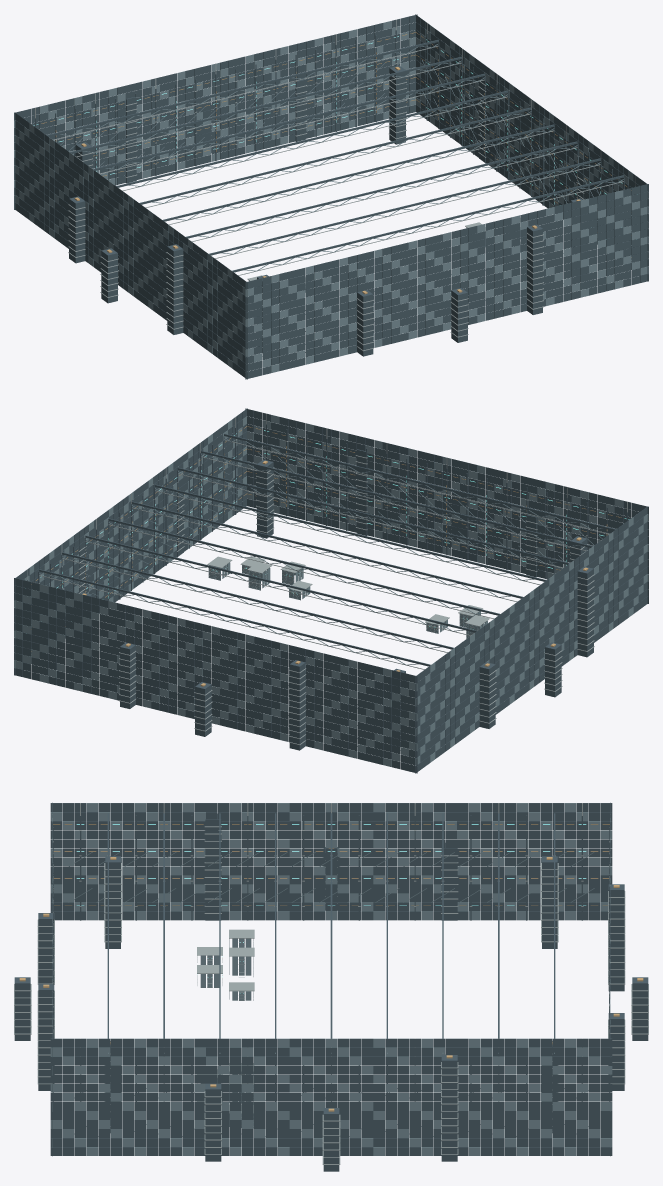
The model's file is FoundryBackdrop.fbx.
The picture shows the model from 3 angles, top to bottom: view 1: azimuth 30°, elevation 25°; view 2: azimuth 150°, elevation 25°; view 3: azimuth 270°, elevation 25°; orthographic projection. The views are drawn at different scales.
Visible parts, largest first — view 1: FoundryBackdrop; view 2: FoundryBackdrop; view 3: FoundryBackdrop.
Part boxes in pixels (left/top/right/bottom): FoundryBackdrop: left=14, top=14, right=648, bottom=379; FoundryBackdrop: left=14, top=408, right=648, bottom=773; FoundryBackdrop: left=14, top=802, right=648, bottom=1171.
Bounding box in the file's own units: 318 × 65 × 319.
